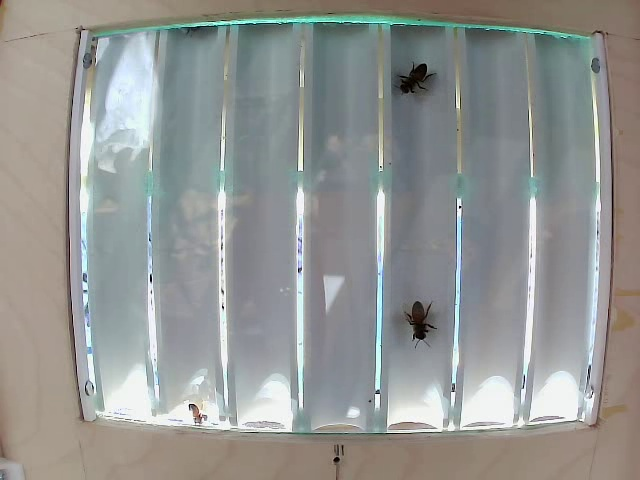bee: (399, 41, 434, 105), (397, 302, 433, 347)
